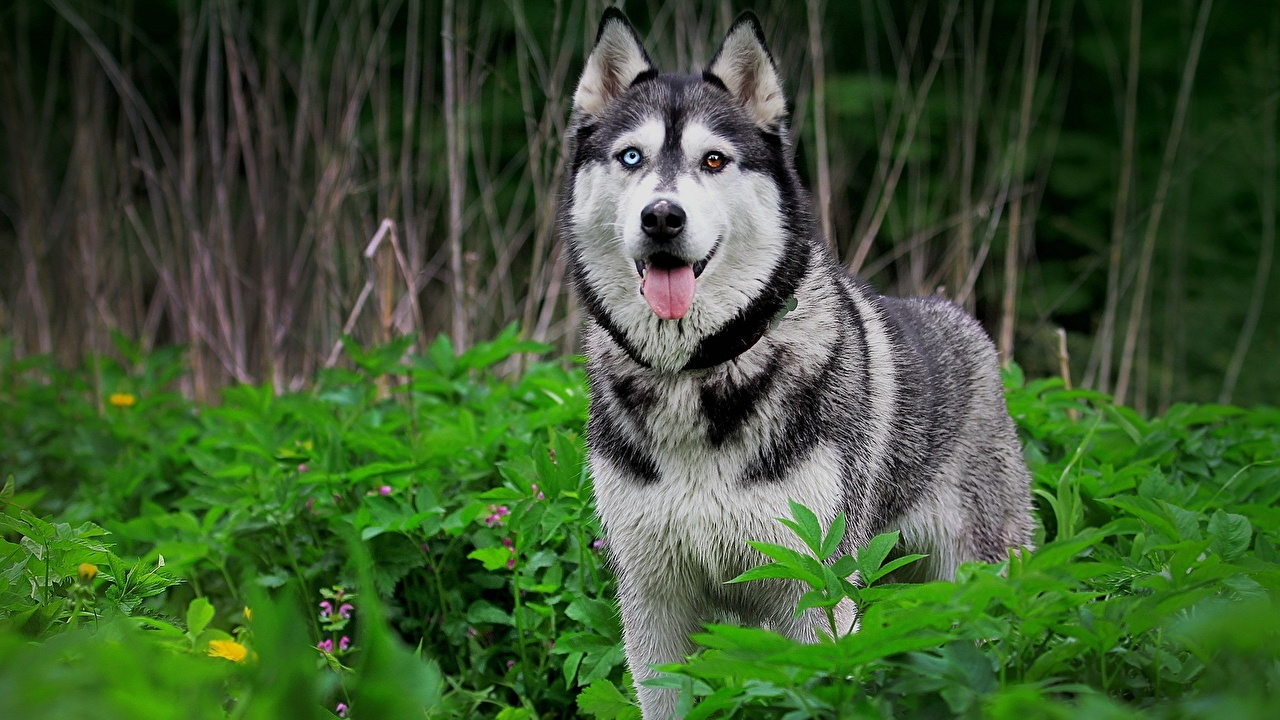husky: (549, 7, 866, 586)
